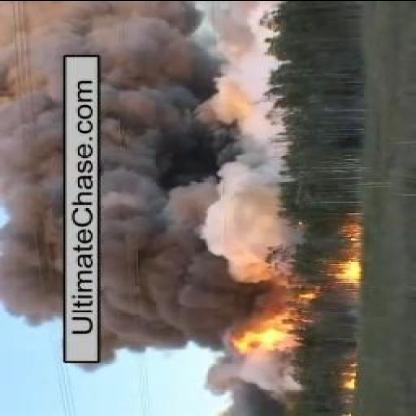-: (107, 46, 225, 346), (16, 49, 60, 312)
foggia-v2-map80-epoch100 - v1 4323: (341, 263, 359, 277)
